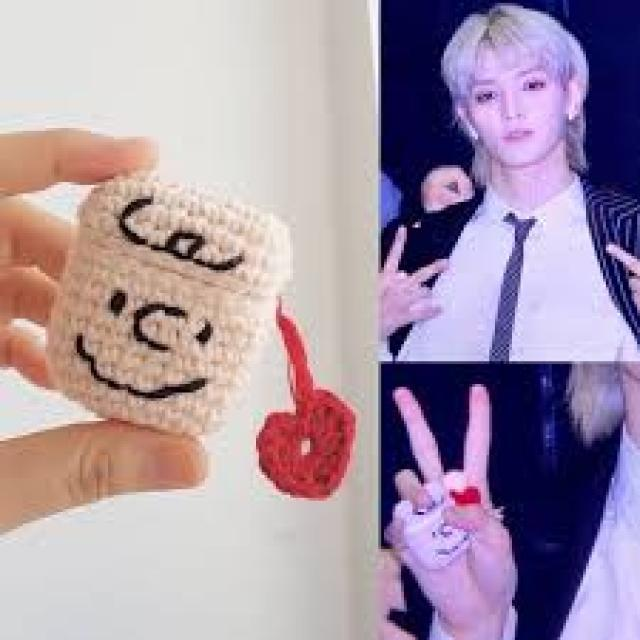earphone: (410, 480, 487, 577), (454, 107, 504, 185), (560, 92, 580, 126)
